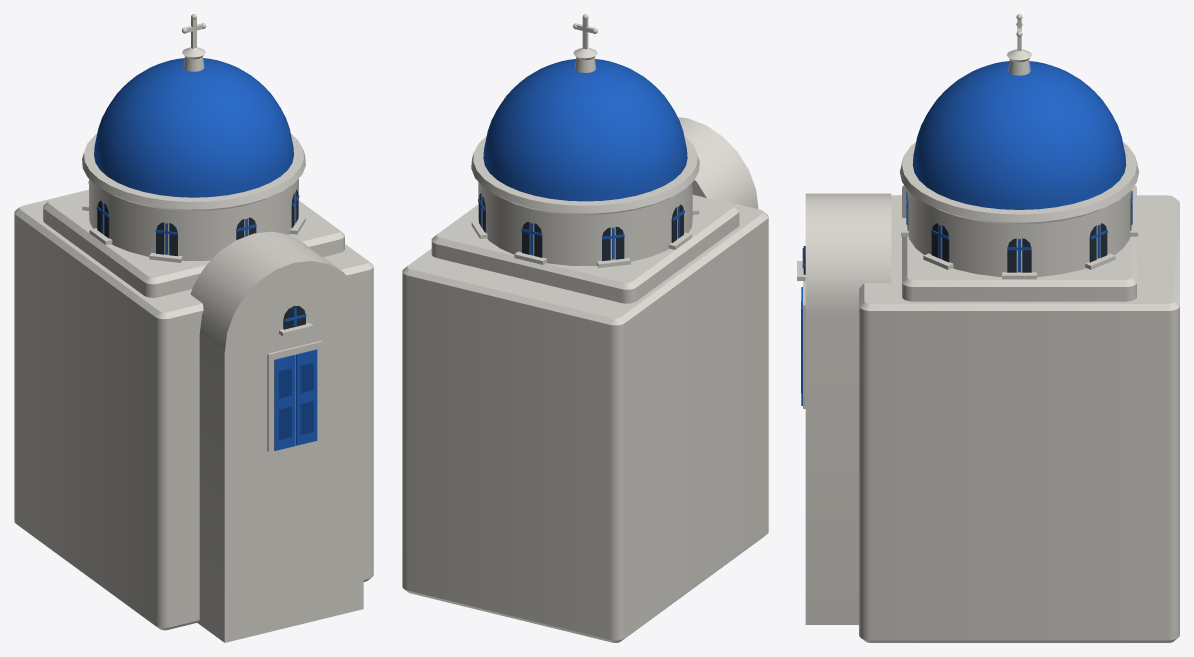
File: chapel.glb
3 renders of one model, left to right at view 1: azimuth 30°, elevation 25°; view 2: azimuth 150°, elevation 25°; view 3: azimuth 270°, elevation 25°, orthographic. The views are drawn at different scales.
Parts seen in each view (by area): view 1: white0, white10, blue3, white2, white1, white11, blue15, blue12, pane4_8; view 2: white0, blue3, white2, white1, white10, pane4_6; view 3: white0, white10, blue3, white2, white1, pane4_3, white25.
Part boxes in pixels (left/top/right/bottom): white0: left=14, top=189, right=373, bottom=630; white10: left=190, top=231, right=363, bottom=642; blue3: left=94, top=58, right=293, bottom=197; white2: left=82, top=134, right=305, bottom=260; white1: left=43, top=191, right=344, bottom=297; white11: left=267, top=341, right=322, bottom=451; blue15: left=296, top=349, right=317, bottom=445; blue12: left=274, top=354, right=295, bottom=450; pane4_8: left=156, top=222, right=177, bottom=256; white0: left=402, top=201, right=768, bottom=642; blue3: left=483, top=59, right=687, bottom=201; white2: left=471, top=136, right=699, bottom=265; white1: left=431, top=195, right=739, bottom=303; white10: left=678, top=117, right=758, bottom=209; pane4_6: left=602, top=226, right=624, bottom=261; white0: left=859, top=195, right=1179, bottom=642; white10: left=805, top=193, right=891, bottom=624; blue3: left=912, top=61, right=1126, bottom=209; white2: left=900, top=142, right=1138, bottom=276; white1: left=902, top=185, right=1136, bottom=301; pane4_3: left=1007, top=238, right=1031, bottom=272; white25: left=1007, top=49, right=1031, bottom=75.
Bounding box in the file's own units: 5 × 11.86 × 7.16.
